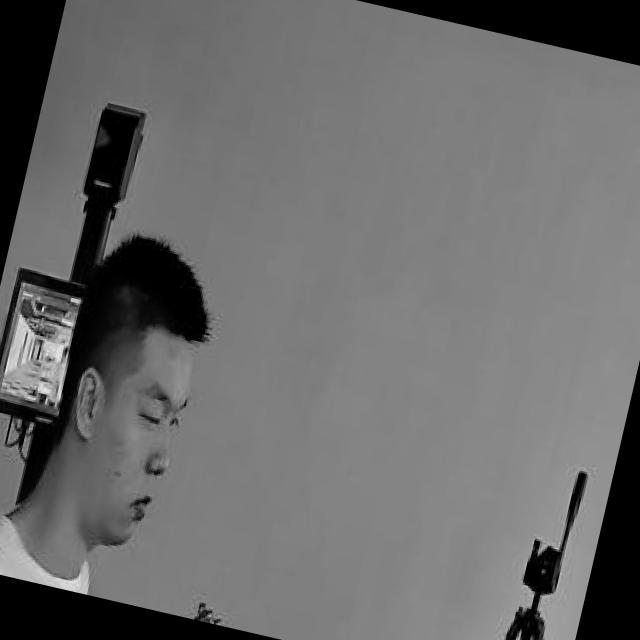Guns: (139, 571, 330, 640)
